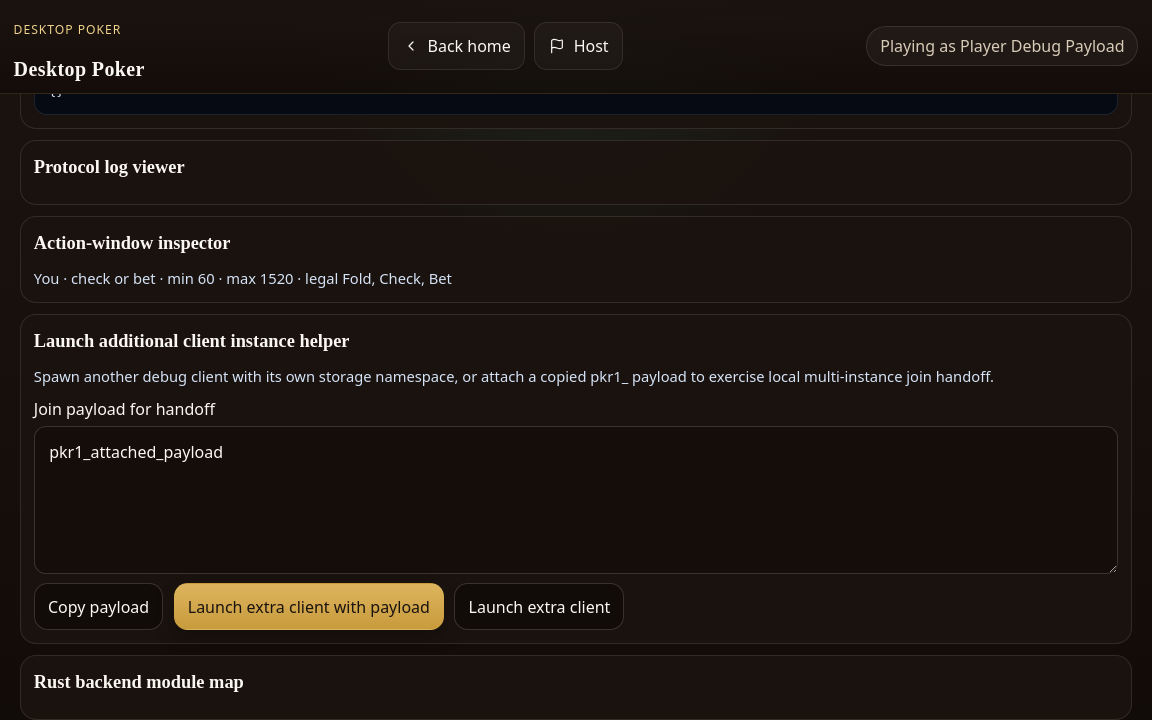
Test case: AppShell integration (table and debug) › keeps a payload-attached debug launch on the current debug route and state
This screenshot has width=1152, height=720.
(page scrolled)
Expected: the text box showing "pkr1_attached_payload" is shown, [34,426,1118,574]
Expected: the text "legal Fold, Check, Bet" is shown, [34,268,452,288]
Step 1. Click the button "Launch extra client with payload" → (309, 607), box [174,584,444,630]
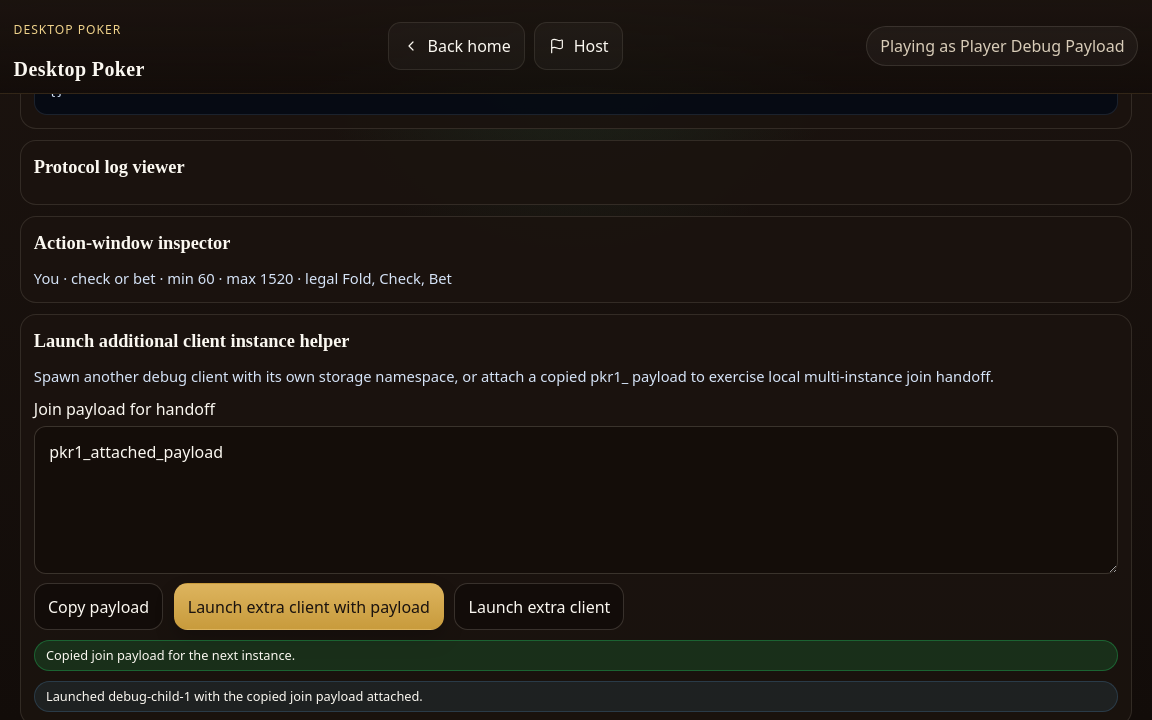
Expected: the text "Launched debug-child-1 with the copied join payload attached." is shown, [34,680,1118,712]
